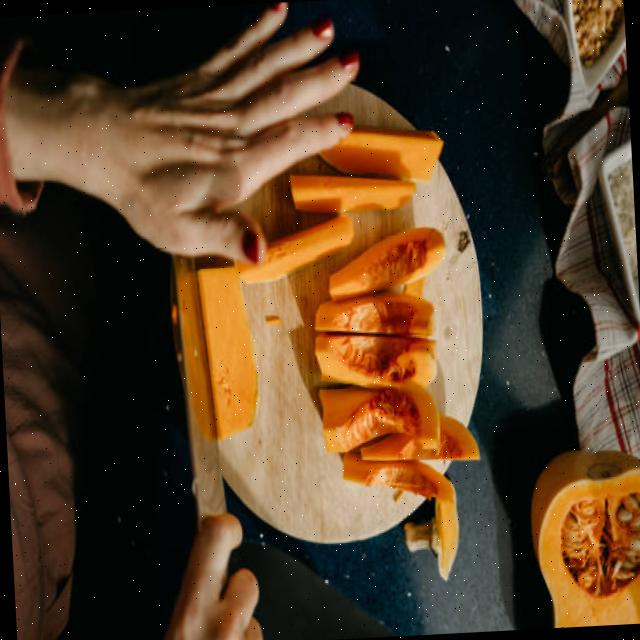pumpkin: (196, 267, 257, 439), (328, 229, 443, 299), (318, 387, 439, 452), (236, 216, 353, 282), (314, 333, 436, 387), (320, 129, 442, 180), (314, 292, 433, 338), (290, 174, 415, 211)
